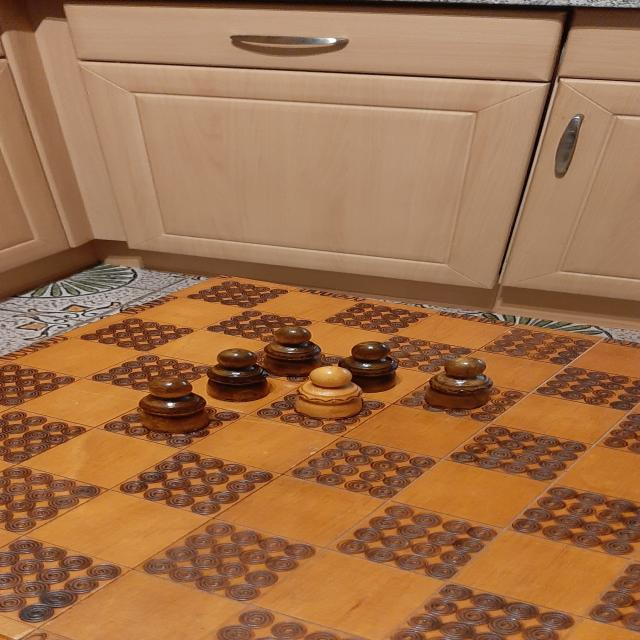black-pawn: (139, 378, 210, 434), (424, 357, 493, 411), (206, 348, 270, 402), (338, 341, 398, 393), (262, 326, 322, 378)
white-pawn: (294, 366, 363, 420)
